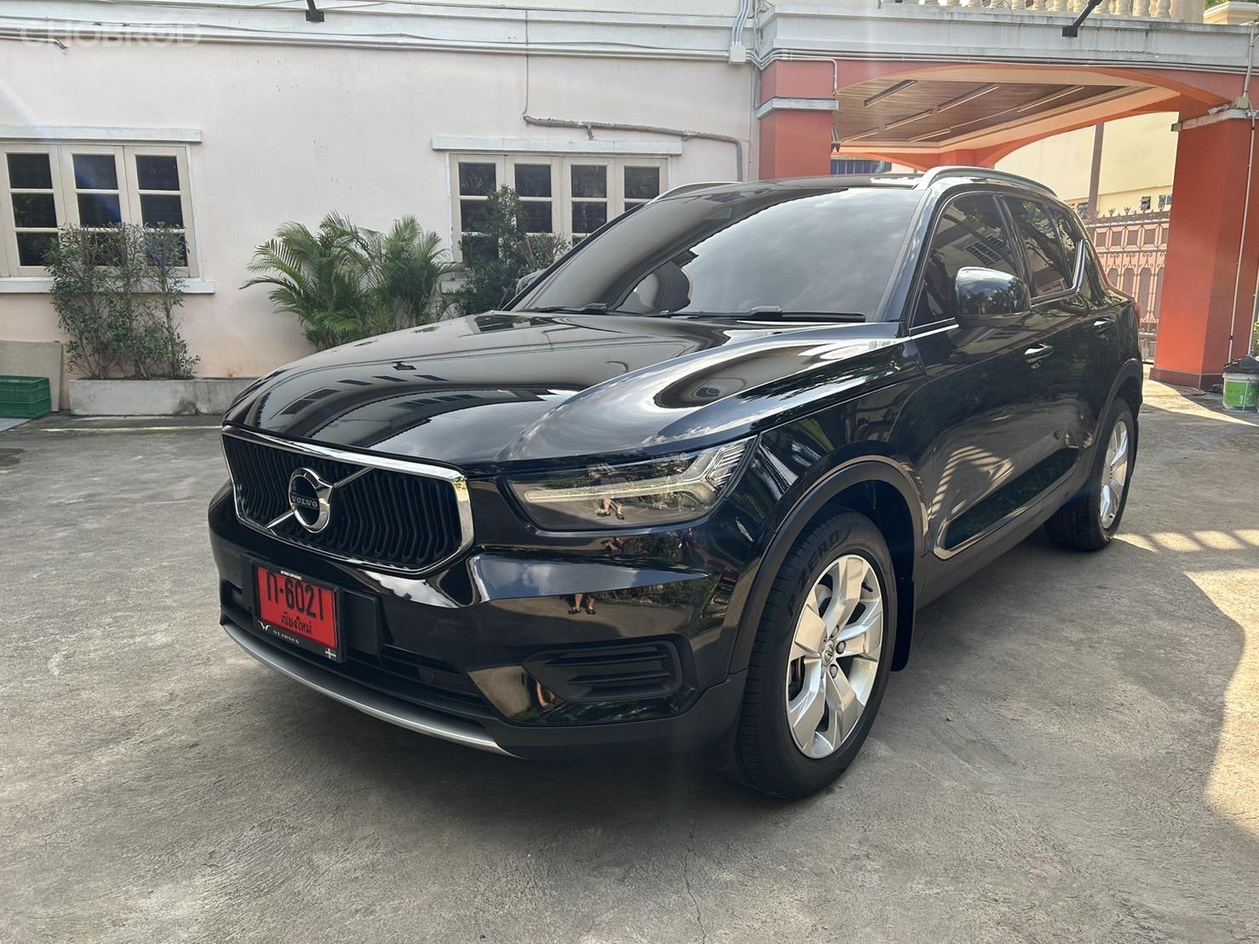license-plate: (245, 553, 348, 671)
